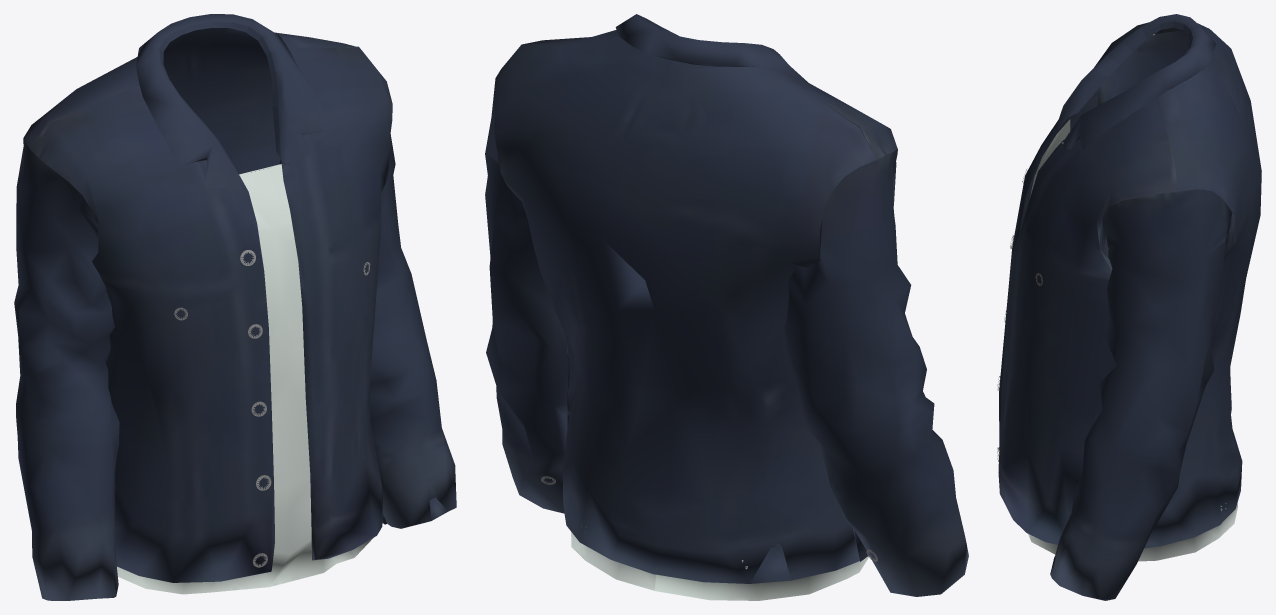
File: denim_jacket_lo.glb
3 renders of one model, left to right at view 1: azimuth 30°, elevation 25°; view 2: azimuth 150°, elevation 25°; view 3: azimuth 270°, elevation 25°, orthographic. The views are drawn at different scales.
Visible parts, largest first — view 1: defaultMaterial; view 2: defaultMaterial; view 3: defaultMaterial.
Part boxes in pixels (x1,y1,x2,y2): defaultMaterial: [14, 14, 456, 600]; defaultMaterial: [485, 14, 968, 600]; defaultMaterial: [997, 14, 1261, 600].
Bounding box in the file's own units: 0.5765 × 0.6784 × 0.3347.
2 materials, 2 textured.
